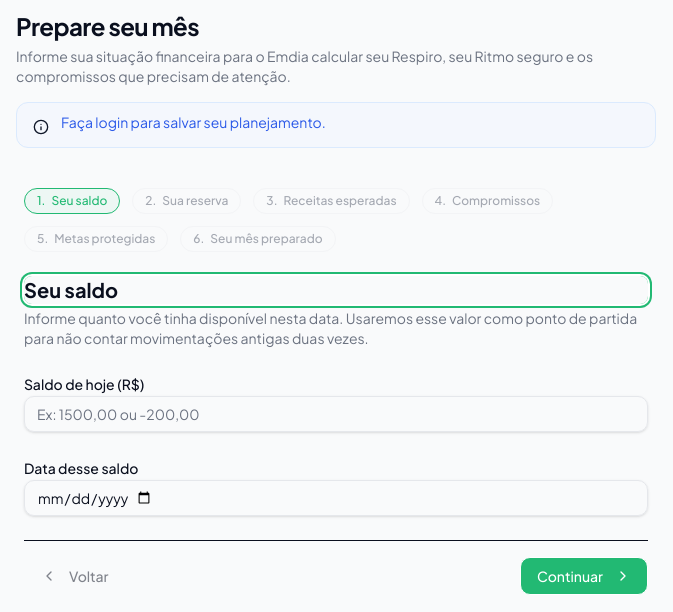
Test: PrepareMonthWizard (fluxo) › navegação voltar/avançar preserva os dados já preenchidos
In the field labelled "Saldo de hoje (R$)": (336, 414) [24, 396, 648, 432], type "1500,00"
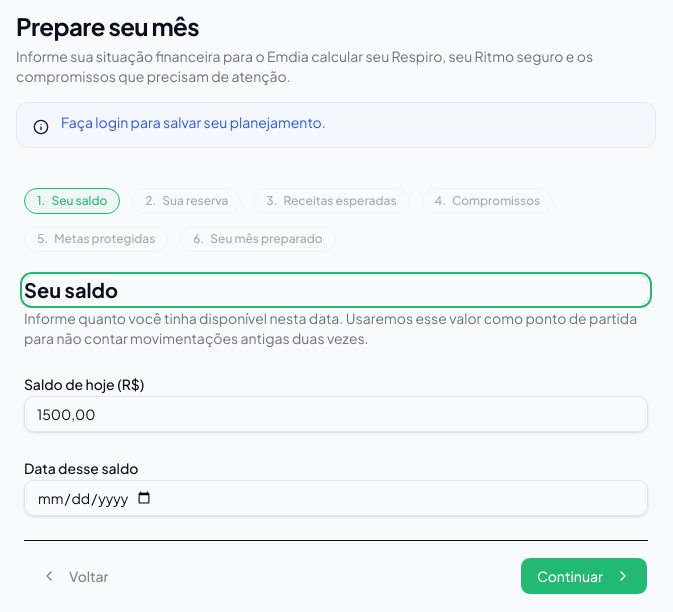
In the date field labelled "Data desse saldo": (336, 498) [24, 480, 648, 516], type "2026-07-21"
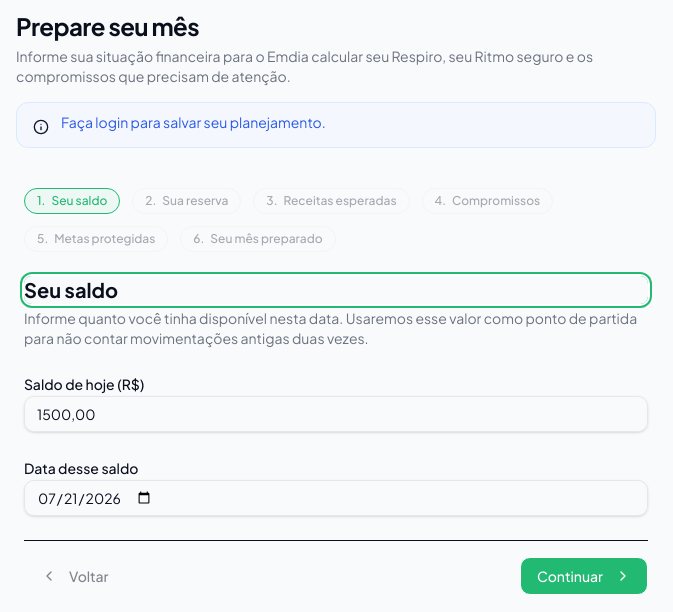
Click the button "Continuar": (584, 576) [520, 557, 648, 595]
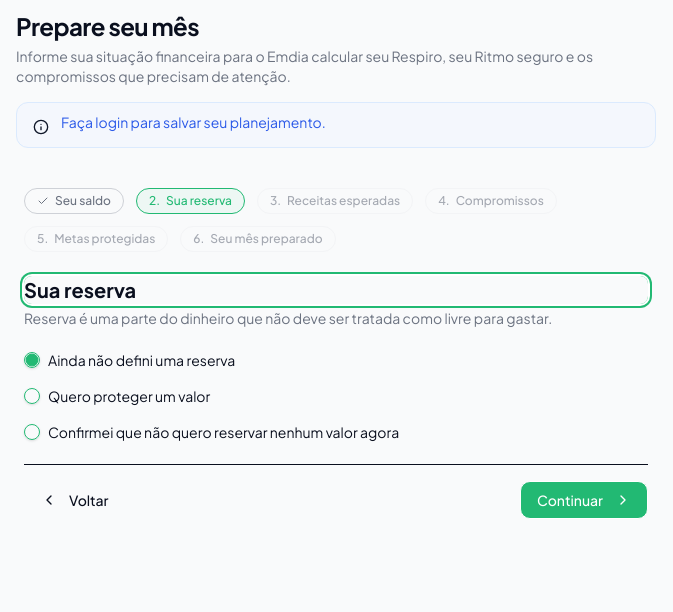
Now the heading "Sua reserva" is shown, box [24, 276, 648, 304]
Click the button "Voltar": (75, 500) [24, 481, 126, 519]
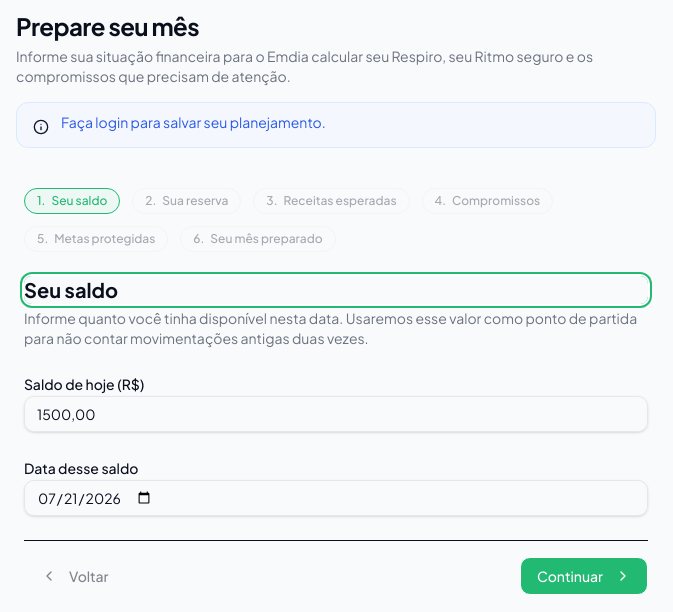
Now the heading "Seu saldo" is shown, box [24, 276, 648, 304]
Now the field labelled "Saldo de hoje (R$)" holds "1500,00", box [24, 396, 648, 432]
